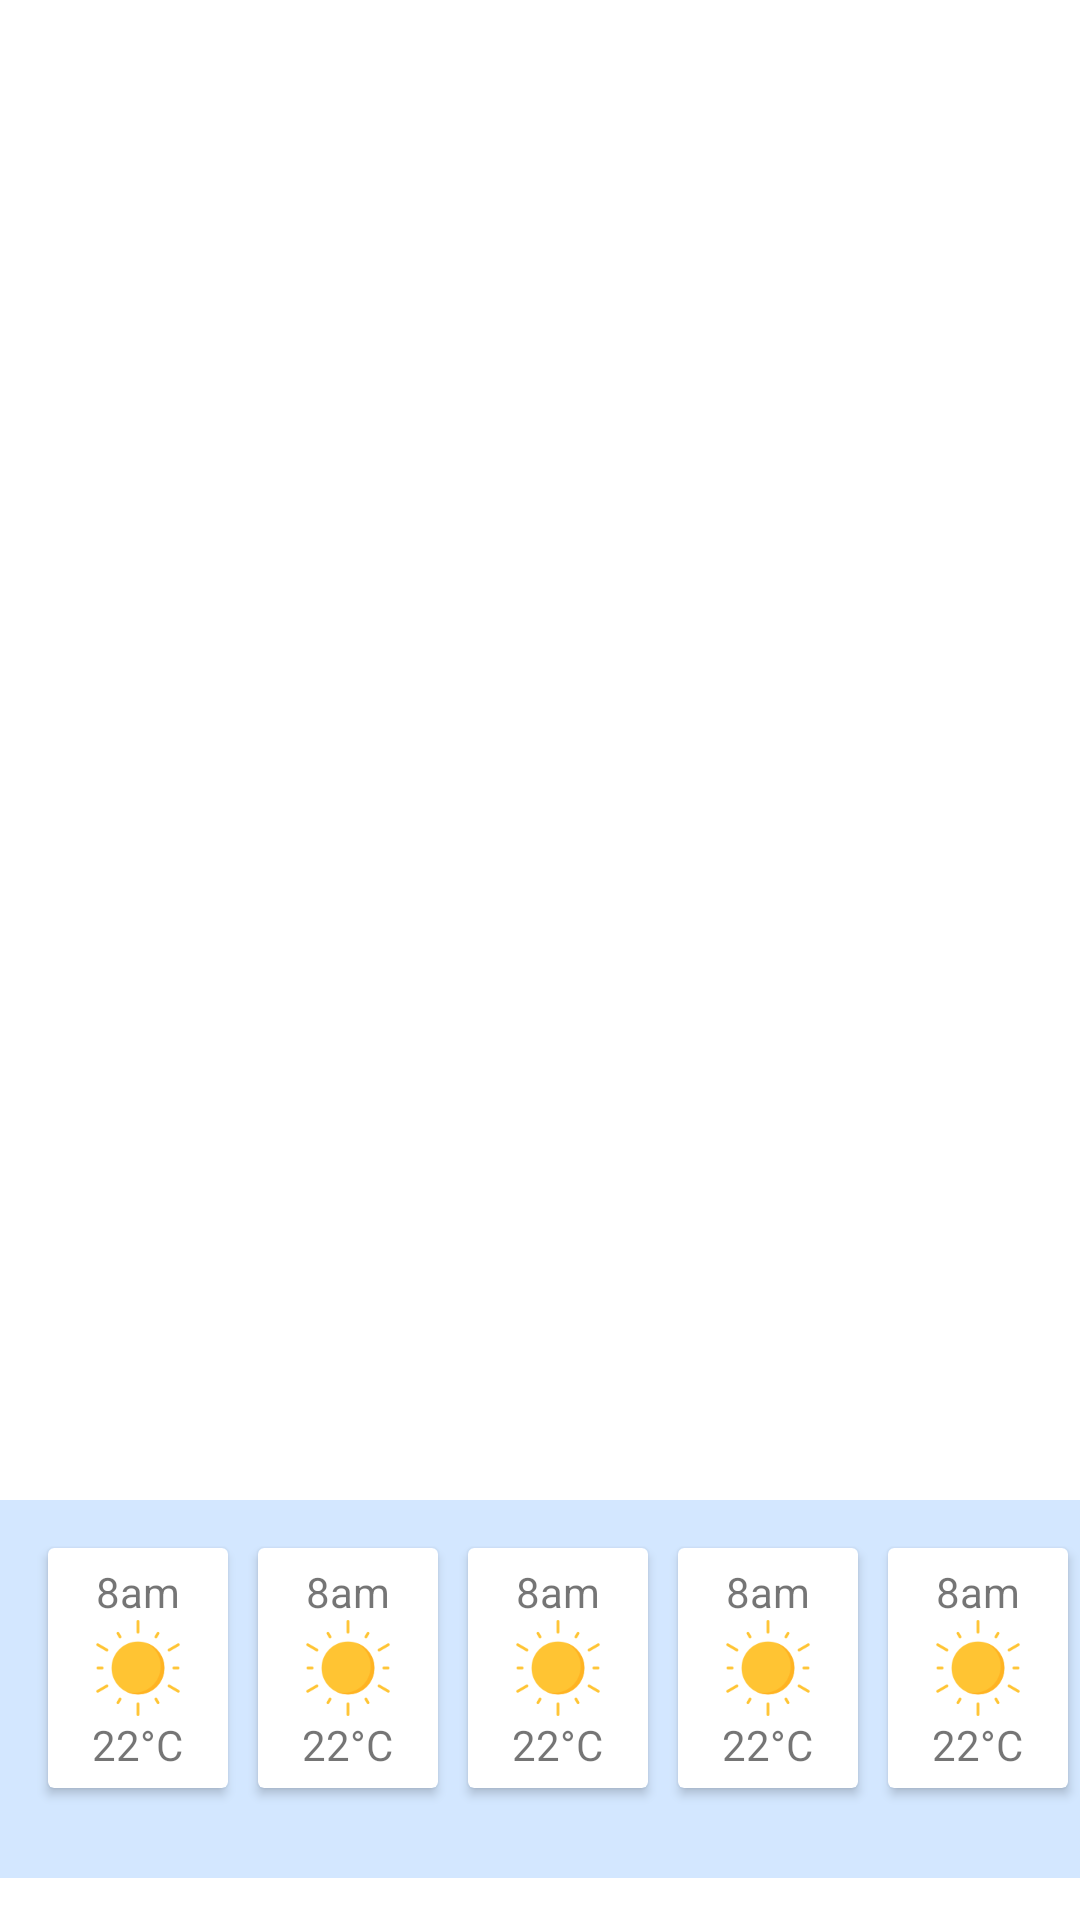

Point at icon controls on the screen. Image size 1080×1920, points as (x,y).
sun: (138,1668), (348,1668), (558,1668), (768,1668), (978,1668)
